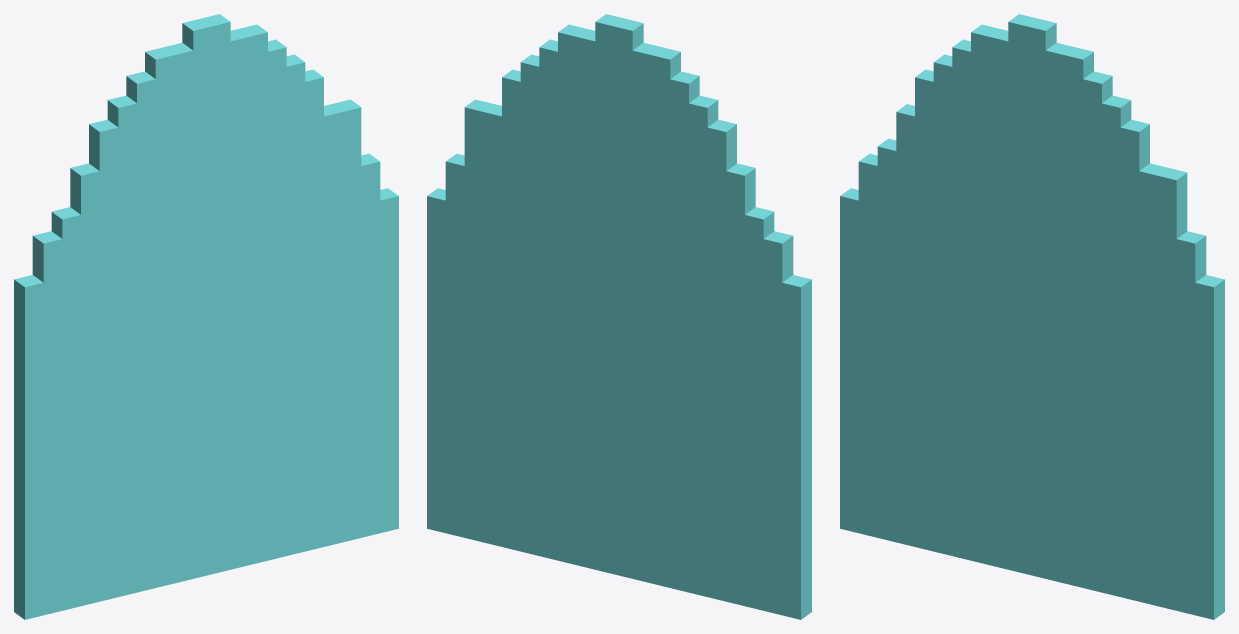
The model's file is Elevator With Door-0.obj.
The picture shows the model from 3 angles, left to right: view 1: azimuth 30°, elevation 25°; view 2: azimuth 150°, elevation 25°; view 3: azimuth 330°, elevation 25°; orthographic projection.
Bounding box in the file's own units: 2 × 2.8 × 0.1.
1 material, 1 textured.
